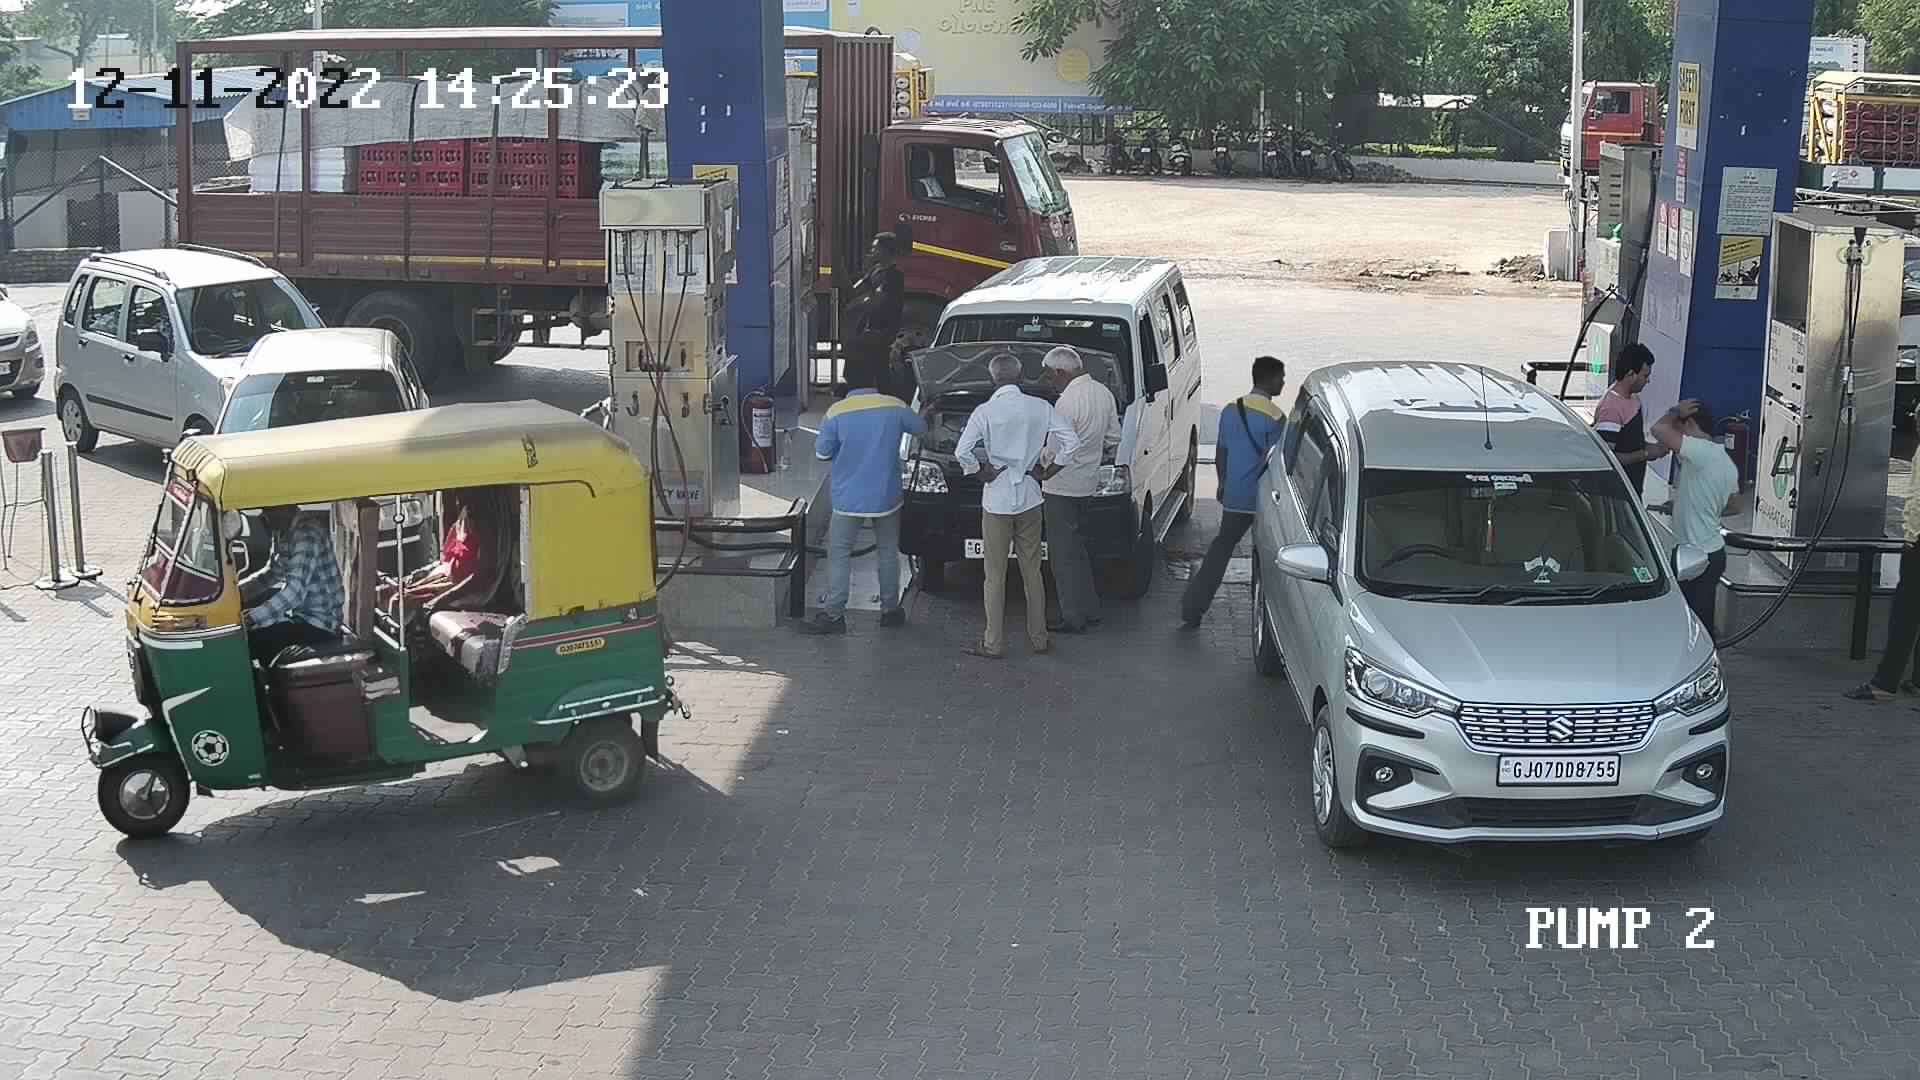Auto: (95, 367, 667, 866)
Bike: (1196, 94, 1247, 179), (1247, 99, 1300, 182), (1309, 116, 1364, 187), (1162, 100, 1207, 179), (1098, 95, 1142, 175), (1283, 111, 1328, 182), (1130, 104, 1176, 170)
Car: (1237, 345, 1737, 870), (872, 228, 1224, 584), (44, 236, 339, 483), (170, 314, 446, 462), (0, 196, 50, 433), (1874, 222, 1917, 473)
HMV: (774, 11, 1087, 404), (1782, 46, 1920, 257), (1545, 65, 1677, 214), (869, 41, 951, 132)
Others: (1166, 349, 1296, 633), (795, 339, 916, 644)
